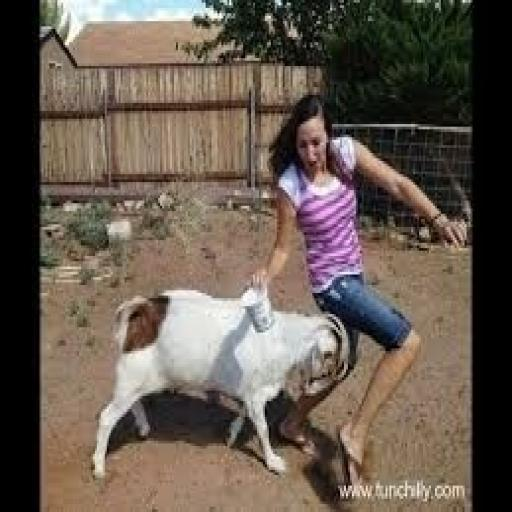running: (247, 90, 469, 491)
